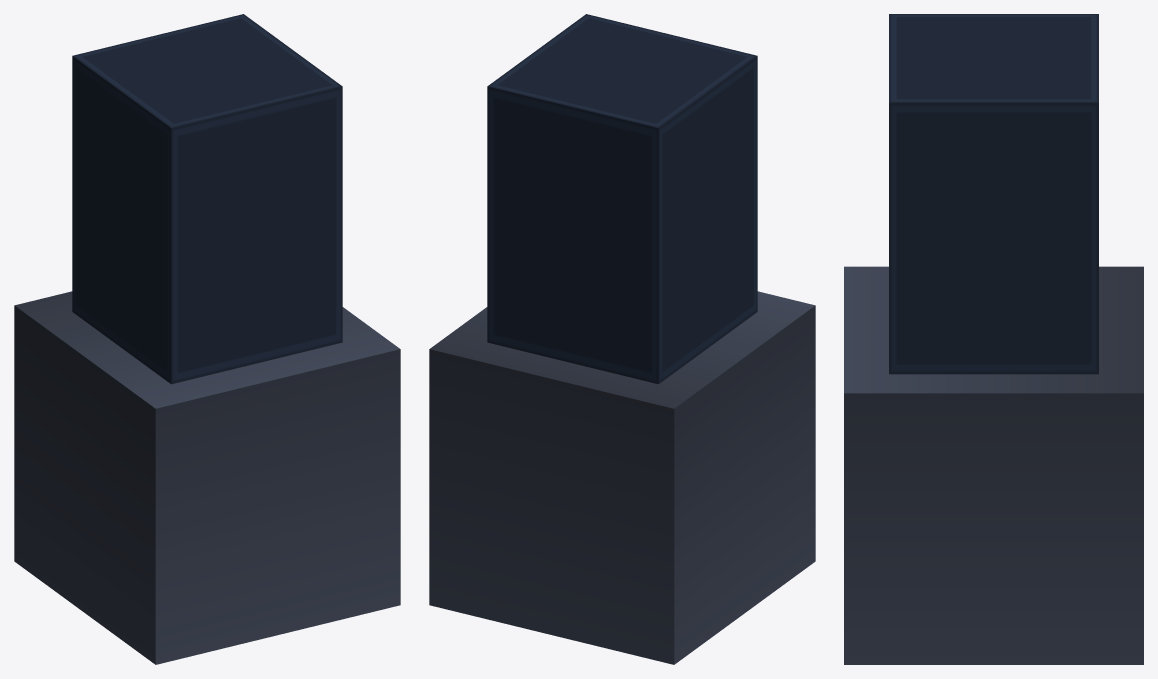
File: KIT_Wall_Corner_2.glb
3 renders of one model, left to right at view 1: azimuth 30°, elevation 25°; view 2: azimuth 150°, elevation 25°; view 3: azimuth 270°, elevation 25°, orthographic. The views are drawn at different scales.
Visible parts, largest first — view 1: KIT_Wall_Corner_2; view 2: KIT_Wall_Corner_2; view 3: KIT_Wall_Corner_2.
Part boxes in pixels (x1,y1,x2,y2): KIT_Wall_Corner_2: (14,14,400,664); KIT_Wall_Corner_2: (429,14,815,664); KIT_Wall_Corner_2: (844,14,1143,664).
Bounding box in the file's own units: 2 × 4 × 2.
Materials: 1 (1 with a texture image).
